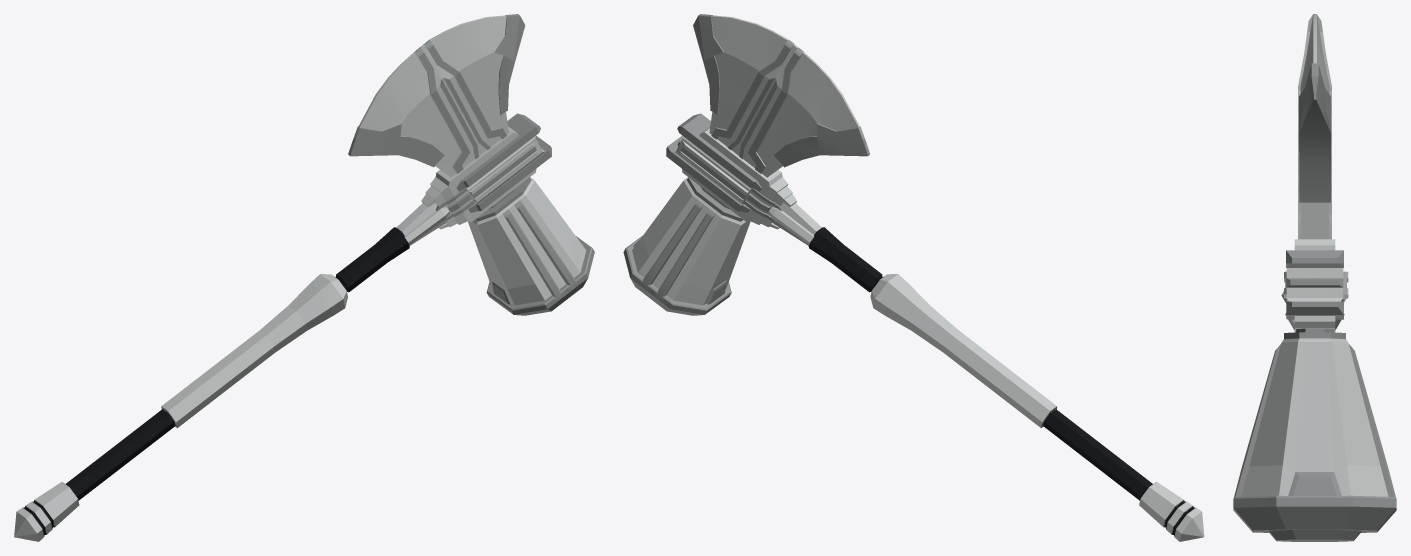
3 views of the same model, side by side, from view 1: azimuth 30°, elevation 25°; view 2: azimuth 150°, elevation 25°; view 3: azimuth 270°, elevation 25° (orthographic). The views are drawn at different scales.
Parts seen in each view (by area): view 1: StormBreaker_Combined_pCube17_StormBreakerM_Axe_0, StormBreaker_Combined_pCube17_StormBreakerM_Handle_0, StormBreaker_Combined_pCube17_StormBreakerM_Hammer_0, StormBreaker_Combined_pCube17_StormBreakerM_Guard2_0, StormBreaker_Combined_pCube17_StormBreakerM_Guard1_0; view 2: StormBreaker_Combined_pCube17_StormBreakerM_Axe_0, StormBreaker_Combined_pCube17_StormBreakerM_Handle_0, StormBreaker_Combined_pCube17_StormBreakerM_Hammer_0, StormBreaker_Combined_pCube17_StormBreakerM_Guard2_0, StormBreaker_Combined_pCube17_StormBreakerM_Guard1_0; view 3: StormBreaker_Combined_pCube17_StormBreakerM_Hammer_0, StormBreaker_Combined_pCube17_StormBreakerM_Axe_0, StormBreaker_Combined_pCube17_StormBreakerM_Guard2_0, StormBreaker_Combined_pCube17_StormBreakerM_Guard1_0.
Boxes of the visible parts, x1=… form: StormBreaker_Combined_pCube17_StormBreakerM_Axe_0: x1=348, y1=14, x2=525, y2=177; StormBreaker_Combined_pCube17_StormBreakerM_Handle_0: x1=14, y1=202, x2=449, y2=541; StormBreaker_Combined_pCube17_StormBreakerM_Hammer_0: x1=468, y1=177, x2=594, y2=315; StormBreaker_Combined_pCube17_StormBreakerM_Guard2_0: x1=447, y1=113, x2=551, y2=212; StormBreaker_Combined_pCube17_StormBreakerM_Guard1_0: x1=421, y1=126, x2=536, y2=229; StormBreaker_Combined_pCube17_StormBreakerM_Axe_0: x1=693, y1=14, x2=869, y2=177; StormBreaker_Combined_pCube17_StormBreakerM_Handle_0: x1=768, y1=202, x2=1204, y2=541; StormBreaker_Combined_pCube17_StormBreakerM_Hammer_0: x1=623, y1=177, x2=750, y2=315; StormBreaker_Combined_pCube17_StormBreakerM_Guard2_0: x1=666, y1=113, x2=770, y2=212; StormBreaker_Combined_pCube17_StormBreakerM_Guard1_0: x1=682, y1=126, x2=796, y2=229; StormBreaker_Combined_pCube17_StormBreakerM_Hammer_0: x1=1233, y1=328, x2=1396, y2=541; StormBreaker_Combined_pCube17_StormBreakerM_Axe_0: x1=1298, y1=14, x2=1331, y2=239; StormBreaker_Combined_pCube17_StormBreakerM_Guard2_0: x1=1284, y1=250, x2=1348, y2=319; StormBreaker_Combined_pCube17_StormBreakerM_Guard1_0: x1=1294, y1=239, x2=1335, y2=331.
Bounding box in the file's own units: 9.46 × 6.53 × 1.5.
5 materials, 5 textured.
